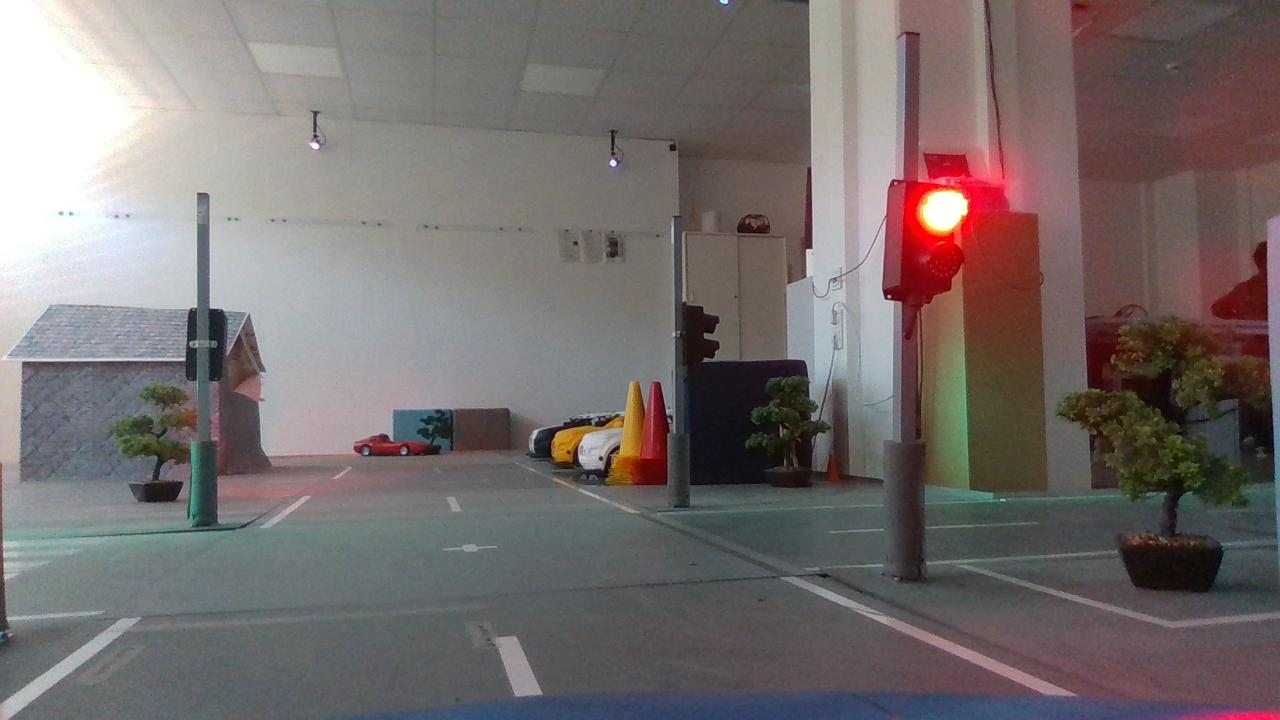traffic_light_red: (865, 166, 985, 317)
